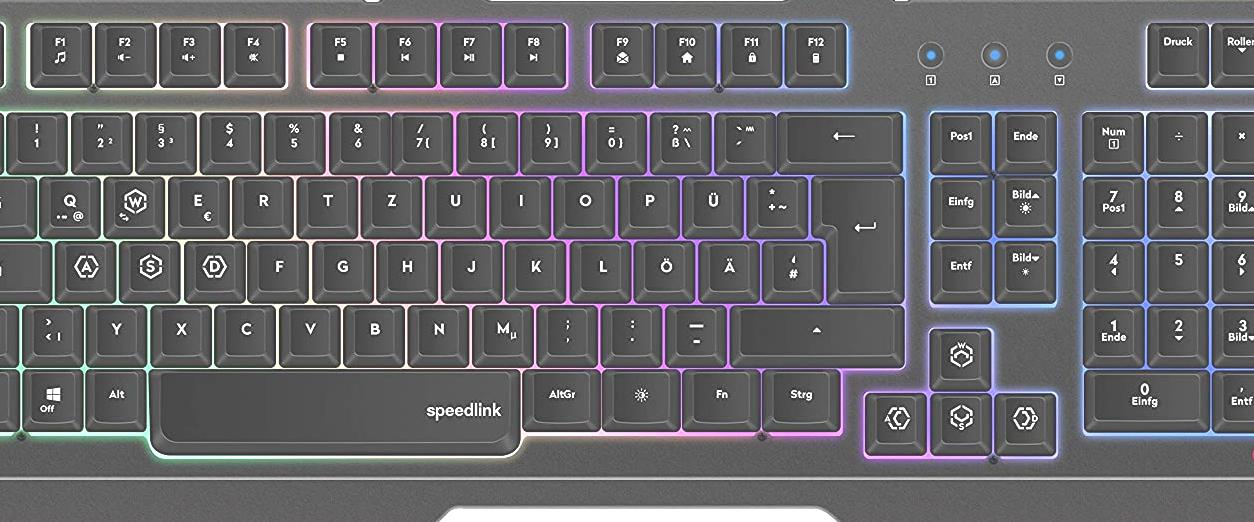0: (587, 108, 638, 163)
1: (9, 108, 58, 160)
2: (74, 107, 124, 162)
3: (136, 107, 189, 163)
4: (203, 108, 253, 162)
5: (266, 107, 318, 163)
6: (334, 113, 384, 168)
7: (395, 108, 444, 162)
8: (458, 108, 510, 164)
9: (523, 108, 574, 163)
a: (56, 235, 109, 292)
accent: (717, 108, 766, 161)
ae: (701, 236, 750, 290)
alt-left: (86, 365, 142, 423)
altgr-right: (526, 365, 592, 422)
b: (344, 299, 398, 354)
c: (217, 299, 268, 354)
caret: (1, 108, 26, 161)
comma: (539, 300, 588, 353)
d: (184, 235, 238, 292)
del: (780, 109, 893, 161)
e: (169, 171, 223, 228)
enter: (809, 170, 897, 291)
f: (252, 236, 299, 288)
g: (314, 236, 364, 290)
h: (379, 235, 429, 289)
hash: (765, 236, 813, 289)
i: (493, 172, 541, 224)
j: (445, 236, 491, 289)
k: (508, 236, 557, 289)
keyboard: (1, 1, 1254, 493)
l: (573, 236, 622, 289)
less: (23, 300, 75, 353)
m: (474, 300, 527, 354)
minus: (667, 301, 718, 355)
n: (410, 299, 461, 353)
o: (557, 173, 607, 225)
oe: (638, 237, 686, 290)
p: (622, 172, 670, 225)
plus: (749, 172, 797, 226)
point: (605, 301, 653, 353)
q: (39, 171, 94, 230)
r: (235, 171, 285, 225)
s: (119, 235, 173, 293)
shift-left: (1, 301, 31, 354)
shift-lock: (1, 238, 52, 292)
shift-right: (729, 301, 896, 355)
space: (151, 363, 512, 447)
ss: (651, 109, 703, 163)
strg-left: (1, 364, 37, 424)
strg-right: (763, 365, 833, 423)
t: (301, 172, 348, 224)
tab: (1, 172, 43, 226)
u: (427, 172, 477, 225)
ue: (685, 172, 734, 226)
v: (282, 299, 332, 353)
w: (102, 170, 159, 228)
x: (152, 300, 205, 354)
y: (89, 300, 139, 353)
z: (364, 172, 411, 225)
